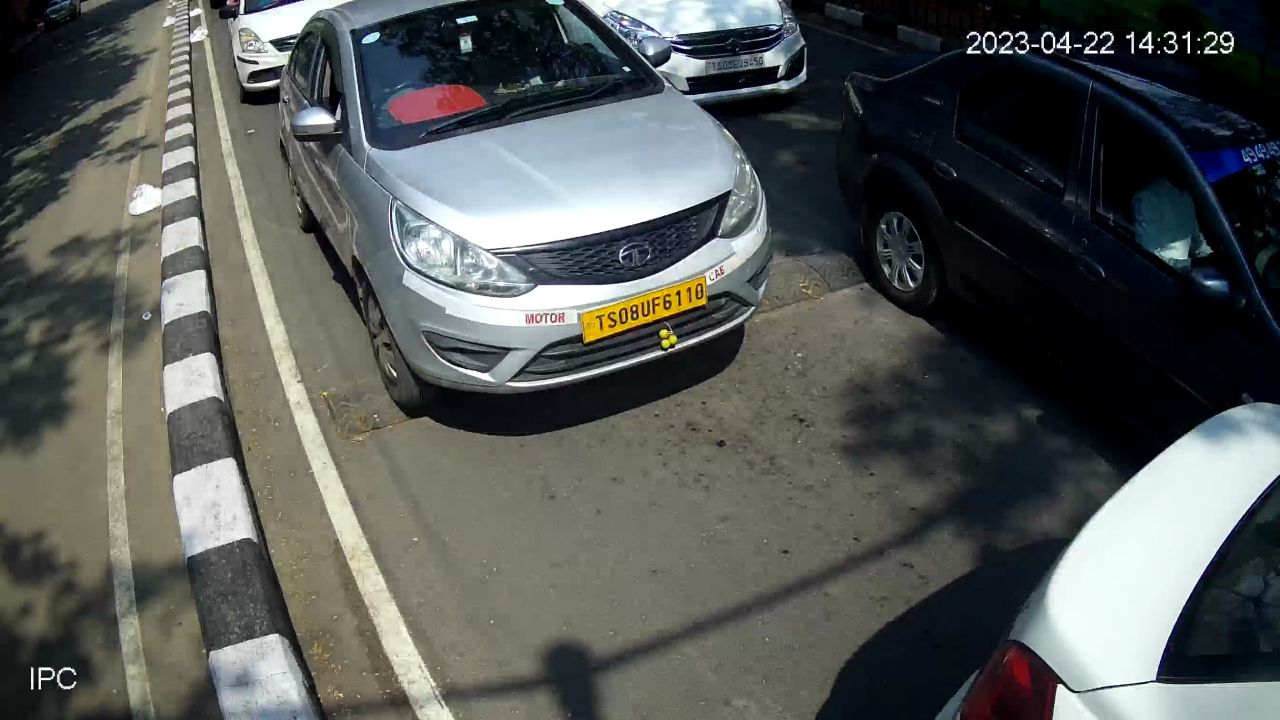license_plate: (576, 267, 711, 350), (701, 47, 768, 83)
